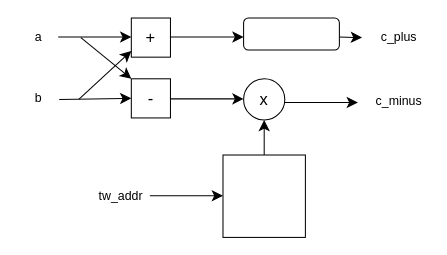
Image size: 447x255. Some labels were removed from this diagram. Here are the shapes that lost their labels. From the top down, the box of each, then its label:
(243, 17, 339, 50): delay 6 cyc
(222, 154, 305, 237): twiddle factor ROM
